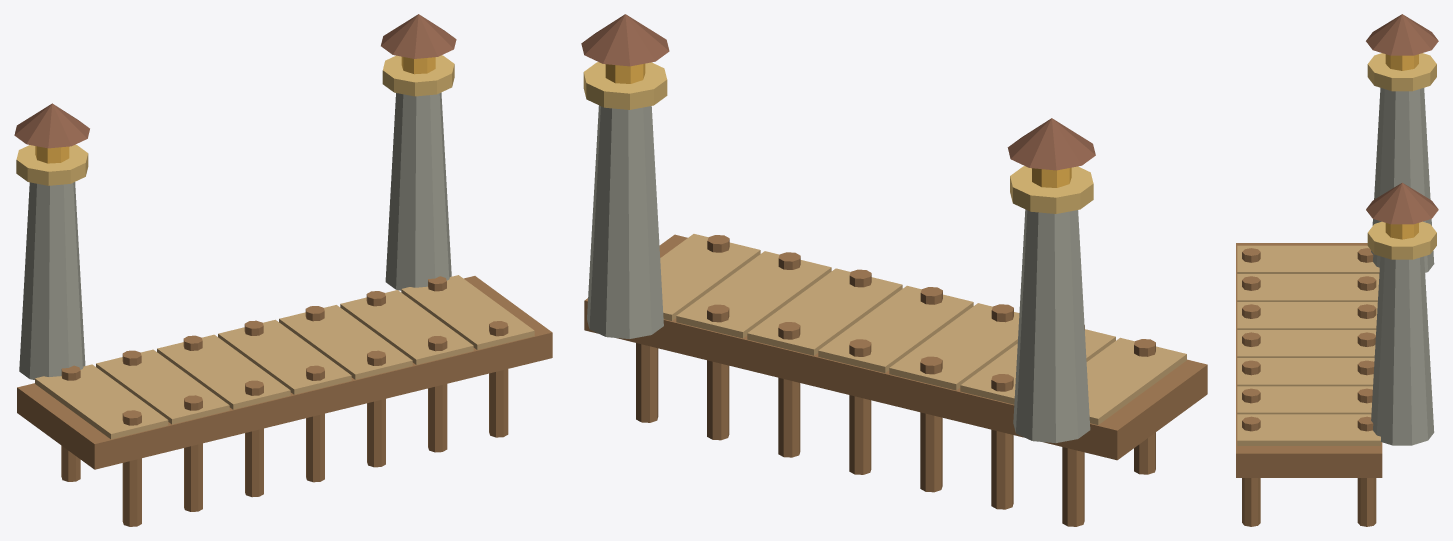
The model's file is harbor_havens_reach.glb.
3 views of the same model, side by side, from view 1: azimuth 30°, elevation 25°; view 2: azimuth 150°, elevation 25°; view 3: azimuth 270°, elevation 25° (orthographic). The views are drawn at different scales.
Parts seen in each view (by area): view 1: harbor; view 2: harbor; view 3: harbor.
Boxes of the visible parts, x1,y1,x2,y2 form: harbor: [14, 14, 552, 526]; harbor: [581, 14, 1207, 526]; harbor: [1236, 14, 1438, 526].
Size of the model in its own units: 7.5 by 5.65 by 3.05.
